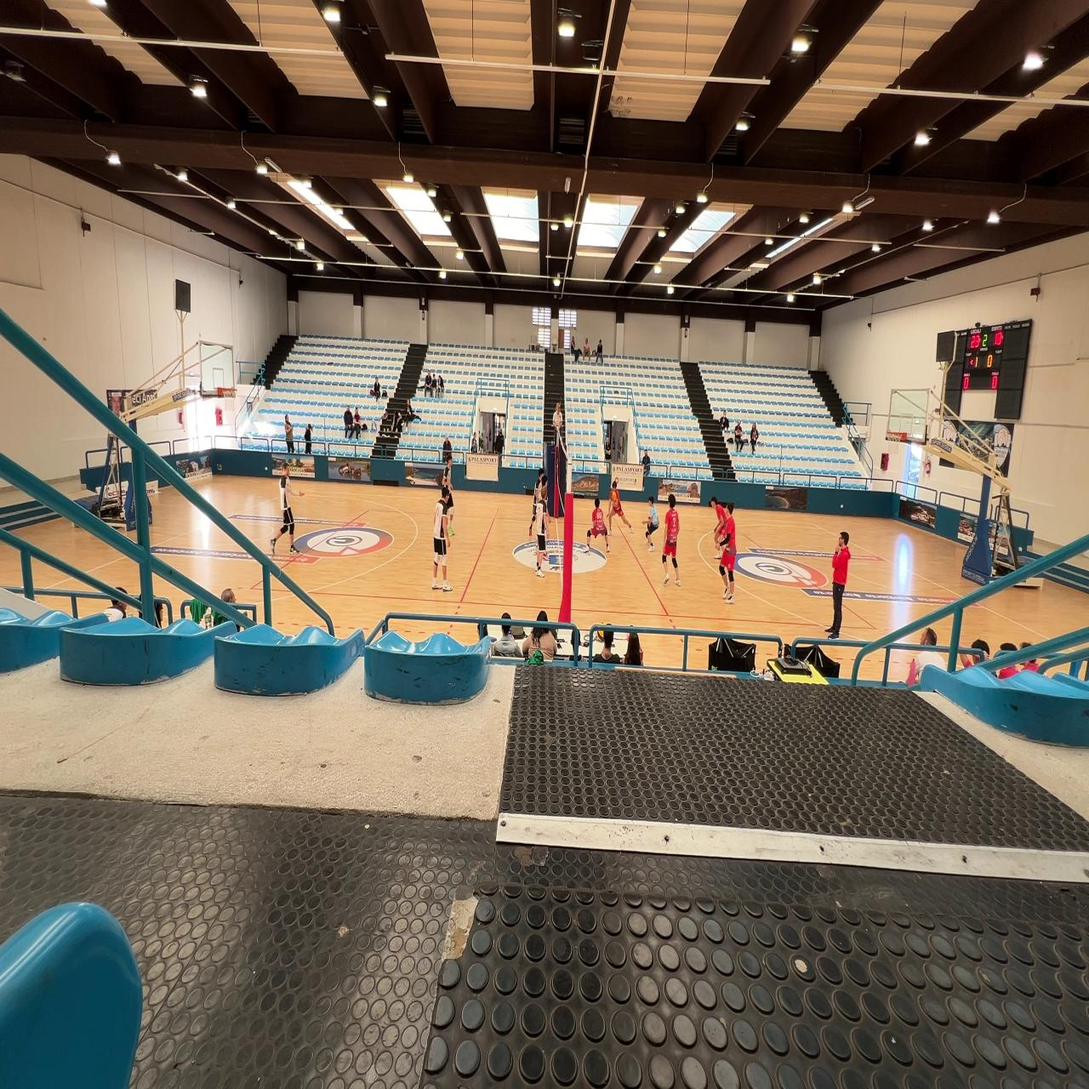ball: (611, 491, 616, 501)
